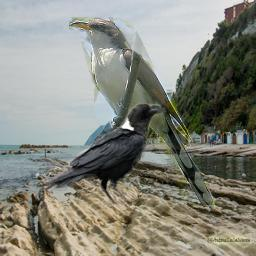Crow: (41, 99, 167, 208)
Cuckoo: (69, 17, 215, 209)
